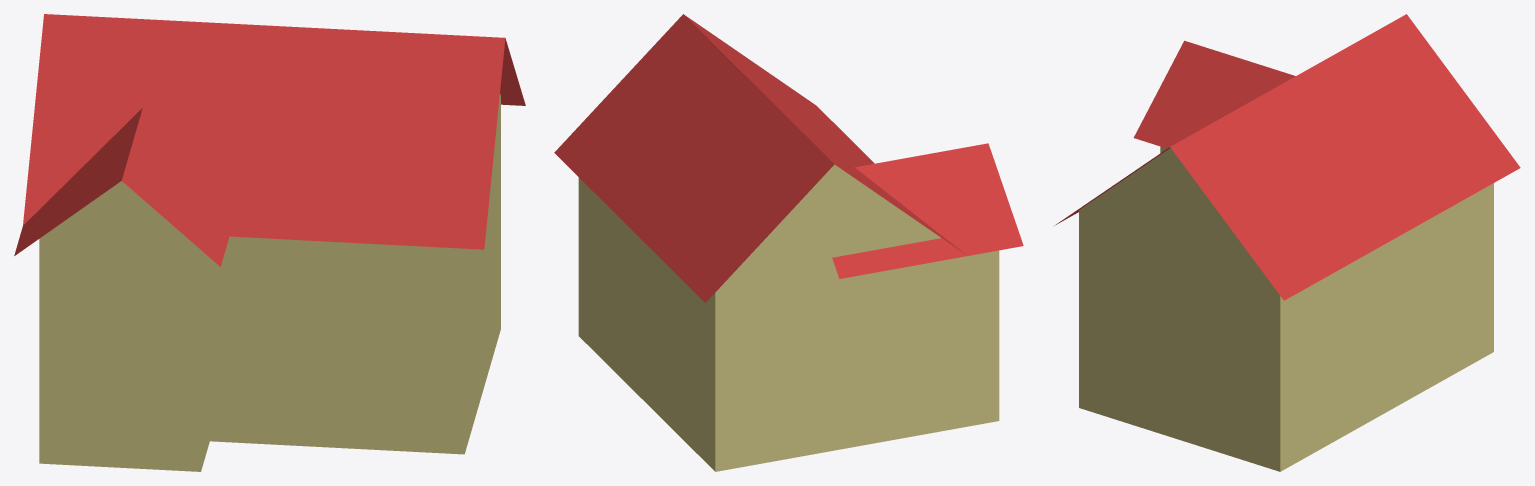
3 renders of one model, left to right at view 1: azimuth 30°, elevation 25°; view 2: azimuth 150°, elevation 25°; view 3: azimuth 270°, elevation 25°, orthographic. The views are drawn at different scales.
Size of the model in its own units: 27.58 by 24.56 by 17.35.
